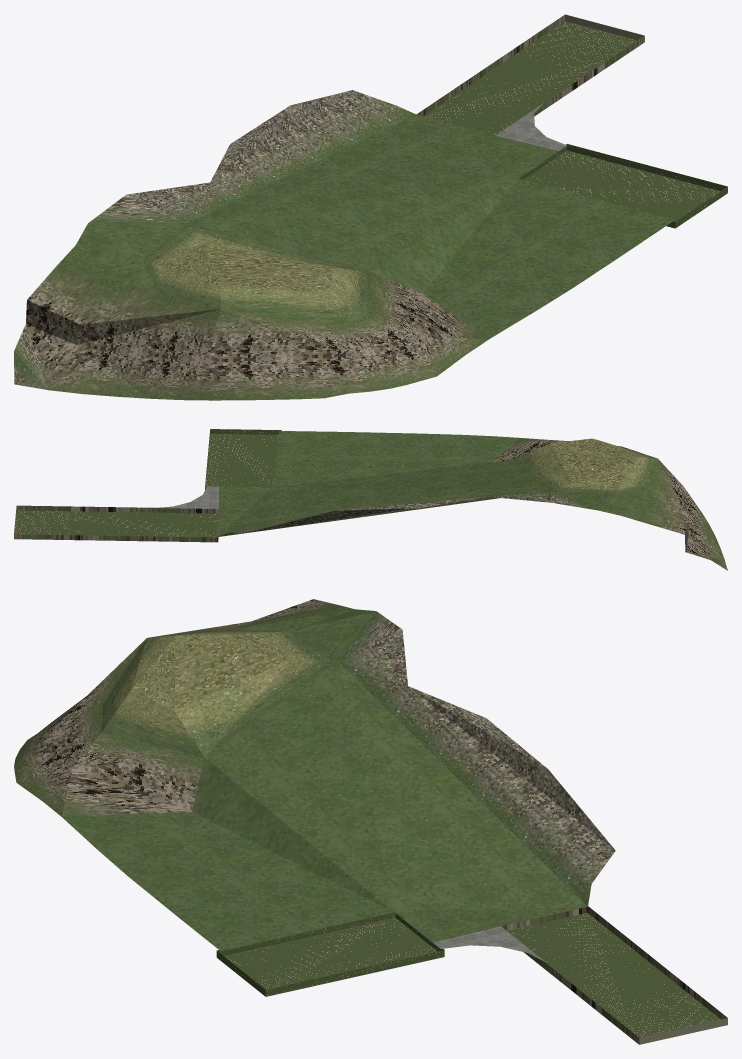
The model's file is lodcendpalo12.obj.
3 renders of one model, top to bottom at view 1: azimuth 30°, elevation 25°; view 2: azimuth 150°, elevation 25°; view 3: azimuth 270°, elevation 25°, orthographic. The views are drawn at different scales.
Parts seen in each view (by area): view 1: LODCEndPALO12; view 2: LODCEndPALO12; view 3: LODCEndPALO12.
Part boxes in pixels (x1,y1,x2,y2): LODCEndPALO12: (14, 14, 727, 400); LODCEndPALO12: (14, 429, 727, 570); LODCEndPALO12: (14, 599, 727, 1044).
Bounding box in the file's own units: 252 × 29.47 × 181.
6 materials, 6 textured.
